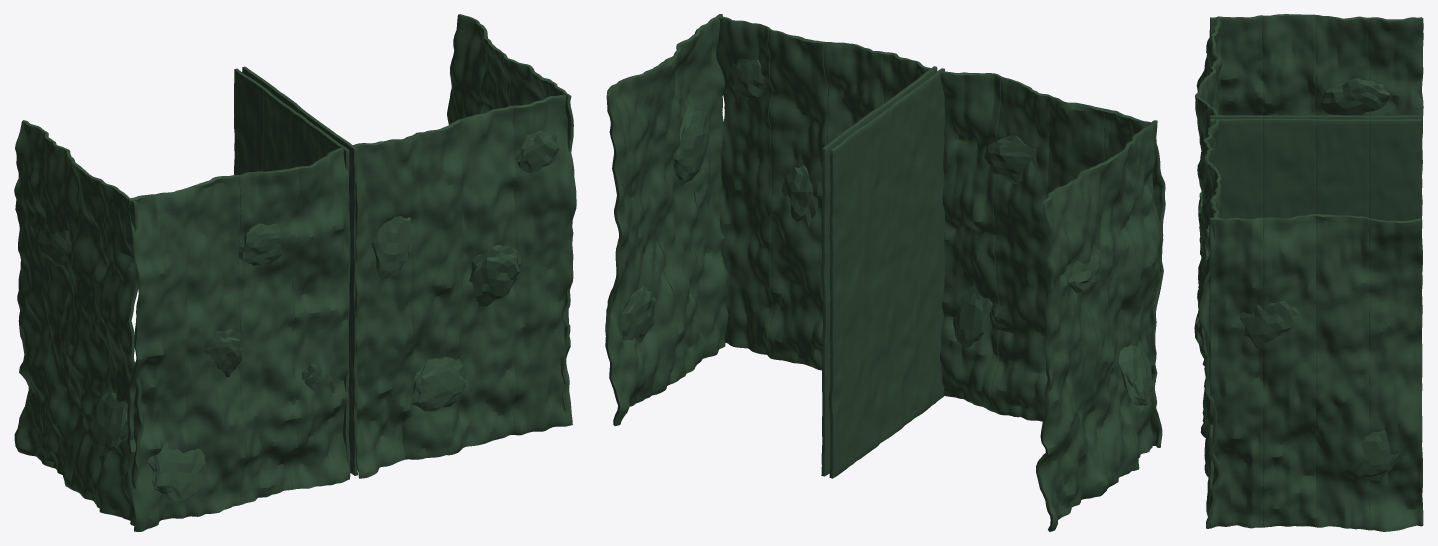
The model's file is pink_house_cliff_shell_v2.glb.
3 renders of one model, left to right at view 1: azimuth 30°, elevation 25°; view 2: azimuth 150°, elevation 25°; view 3: azimuth 270°, elevation 25°, orthographic. The views are drawn at different scales.
Parts seen in each view (by area): view 1: FrontCliff_04, FrontCliff_08, FrontCliff_03, FrontCliff_02, FrontCliff_01, FrontCliff_05, FrontCliff_07, FrontCliff_06, LeftCliff_04, LeftCliff_01, LeftCliff_03, LeftCliff_02 (+18 smaller); view 2: FrontCliff_07, FrontCliff_04, FrontCliff_03, FrontCliff_08, LeftCliff_04, ChasmLeft_04, ChasmLeft_03, ChasmLeft_02, RightCliff_01, RightCliff_03, ChasmLeft_01, LeftCliff_02 (+17 smaller); view 3: RightCliff_03, RightCliff_04, RightCliff_02, RightCliff_01, LeftCliff_02, ChasmRight_04, ChasmRight_02, ChasmRight_03, LeftCliff_04, LeftCliff_01, ChasmRight_01, LeftCliff_03 (+12 smaller).
Part boxes in pixels (x1,y1,x2,y2): FrontCliff_04: [288, 147, 350, 489]; FrontCliff_08: [512, 94, 576, 435]; FrontCliff_03: [237, 166, 299, 504]; FrontCliff_02: [185, 174, 245, 516]; FrontCliff_01: [127, 188, 189, 531]; FrontCliff_05: [350, 136, 413, 478]; FrontCliff_07: [458, 105, 517, 448]; FrontCliff_06: [401, 119, 464, 459]; LeftCliff_04: [14, 120, 54, 467]; LeftCliff_01: [97, 183, 144, 525]; LeftCliff_03: [41, 141, 83, 490]; LeftCliff_02: [70, 162, 112, 508]; FrontCliff_07: [768, 29, 828, 370]; FrontCliff_04: [940, 71, 1002, 411]; FrontCliff_03: [990, 77, 1050, 421]; FrontCliff_08: [716, 16, 772, 356]; LeftCliff_04: [1036, 181, 1083, 531]; ChasmLeft_04: [829, 129, 861, 478]; ChasmLeft_03: [857, 109, 889, 457]; ChasmLeft_02: [886, 88, 917, 437]; RightCliff_01: [683, 14, 728, 363]; RightCliff_03: [635, 57, 677, 403]; ChasmLeft_01: [914, 68, 945, 416]; LeftCliff_02: [1094, 141, 1137, 487]; RightCliff_03: [1315, 214, 1369, 530]; RightCliff_04: [1368, 218, 1423, 531]; RightCliff_02: [1262, 214, 1316, 527]; RightCliff_01: [1208, 217, 1263, 528]; LeftCliff_02: [1262, 14, 1317, 115]; ChasmRight_04: [1369, 119, 1422, 420]; ChasmRight_02: [1263, 118, 1315, 218]; ChasmRight_03: [1315, 119, 1368, 217]; LeftCliff_04: [1368, 17, 1423, 299]; LeftCliff_01: [1209, 15, 1263, 115]; ChasmRight_01: [1210, 118, 1262, 219]; LeftCliff_03: [1315, 15, 1369, 115].
Bounding box in the file's own units: 416 × 282 × 188.
